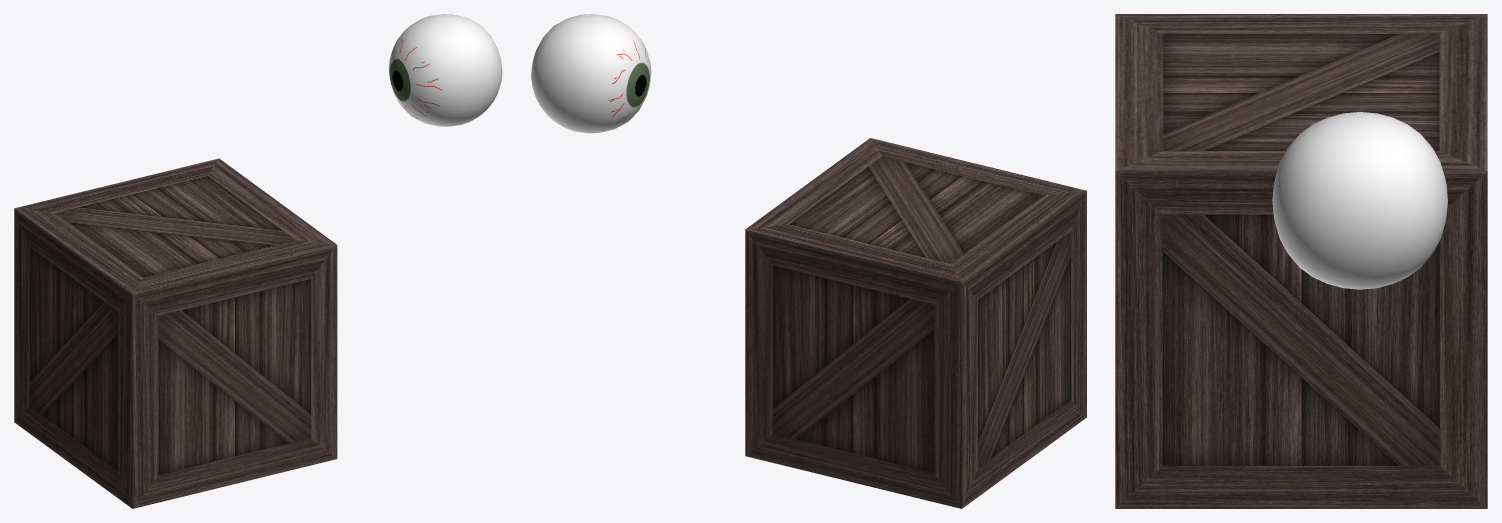
Rendered from eyeball.fbx.
The picture shows the model from 3 angles, left to right: view 1: azimuth 30°, elevation 25°; view 2: azimuth 150°, elevation 25°; view 3: azimuth 270°, elevation 25°; orthographic projection. The views are drawn at different scales.
Visible parts, largest first — view 1: pCube48, pCube57; view 2: pCube48, pCube57; view 3: pCube48, pCube57.
Boxes of the visible parts, <box> form: pCube48: <box>14,158,337,508</box>; pCube57: <box>388,14,502,126</box>; pCube48: <box>745,138,1086,508</box>; pCube57: <box>531,14,651,133</box>; pCube48: <box>1115,14,1487,508</box>; pCube57: <box>1272,112,1447,289</box>.
Bounding box in the file's own units: 3.09 × 2.27 × 1.44.
6 materials, 6 textured.
